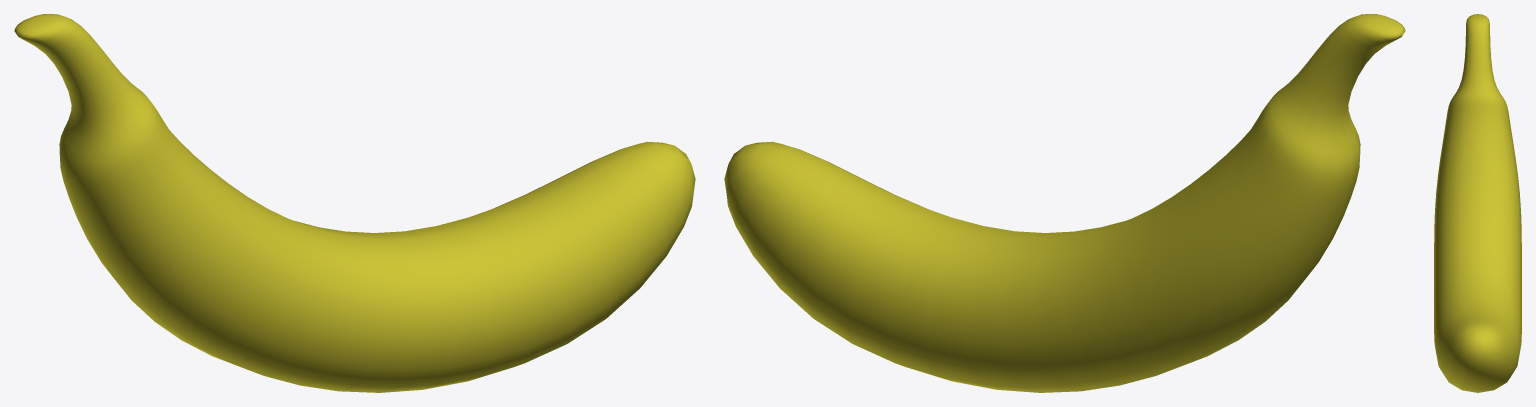
File: banana_516ef7e9_visual.obj
The picture shows the model from 3 angles, left to right: view 1: azimuth 30°, elevation 25°; view 2: azimuth 150°, elevation 25°; view 3: azimuth 270°, elevation 25°; orthographic projection. The views are drawn at different scales.
Bounding box in the file's own units: 0.3101 × 0.2 × 0.0644.
Materials: 1 (1 with a texture image).
